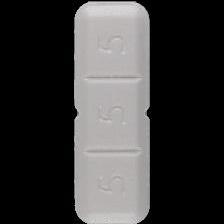61919-579: (0, 0, 224, 224)
